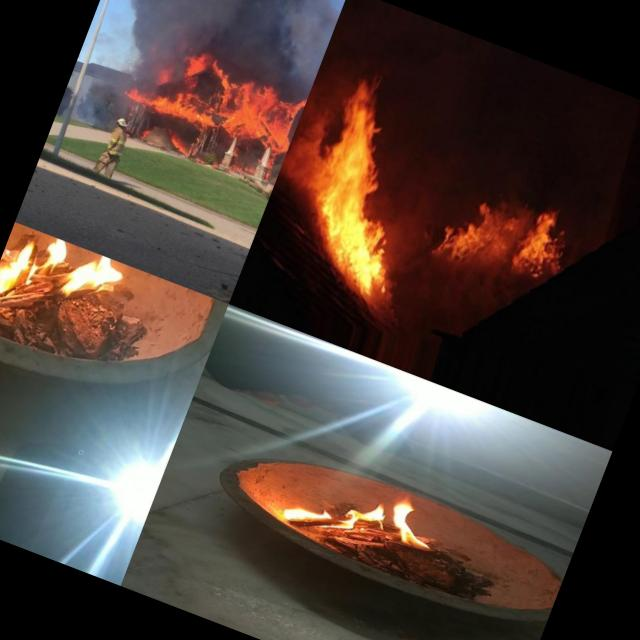fire: (287, 75, 451, 296), (427, 168, 578, 300), (276, 456, 440, 572), (0, 222, 131, 358), (166, 49, 310, 162), (274, 59, 359, 199), (121, 74, 174, 118)
smoke: (119, 0, 323, 95), (137, 0, 349, 57), (114, 28, 189, 90), (63, 90, 124, 138)
